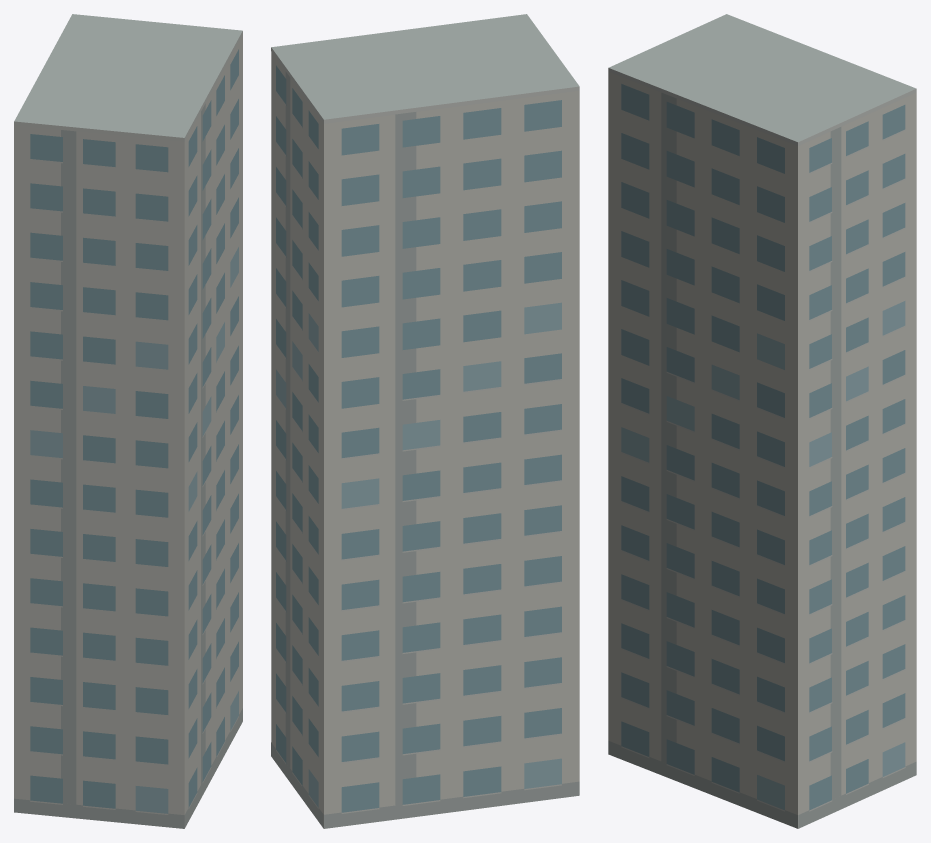
File: residential-739497e6-b55f-4f19-8571-0022b90eb075.glb
3 views of the same model, side by side, from view 1: azimuth 30°, elevation 25°; view 2: azimuth 150°, elevation 25°; view 3: azimuth 270°, elevation 25° (orthographic). The views are drawn at different scales.
Parts seen in each view (by area): view 1: residential-739497e6-b55f-4f19-8571-0022b90eb075.tmp; view 2: residential-739497e6-b55f-4f19-8571-0022b90eb075.tmp; view 3: residential-739497e6-b55f-4f19-8571-0022b90eb075.tmp.
Part boxes in pixels (<box>): residential-739497e6-b55f-4f19-8571-0022b90eb075.tmp: <box>14,14,242,828</box>; residential-739497e6-b55f-4f19-8571-0022b90eb075.tmp: <box>271,14,579,828</box>; residential-739497e6-b55f-4f19-8571-0022b90eb075.tmp: <box>608,14,916,828</box>.
Size of the model in its own units: 17.24 by 43 by 17.5.
